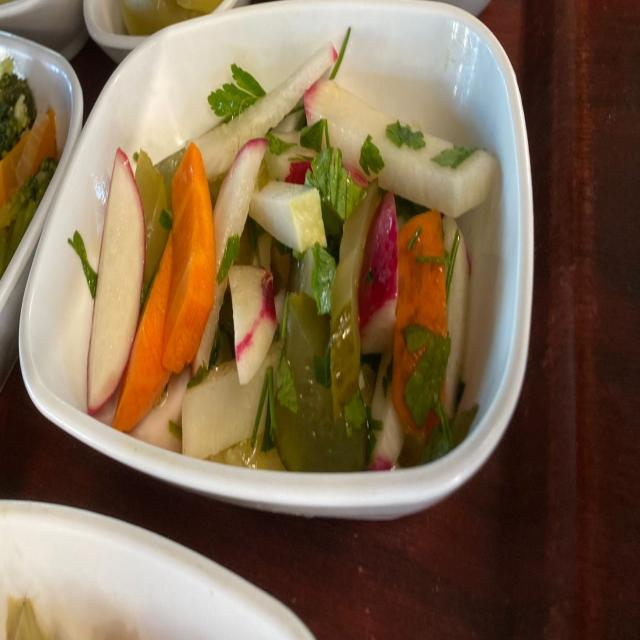yan_yemek: (58, 51, 514, 473)
